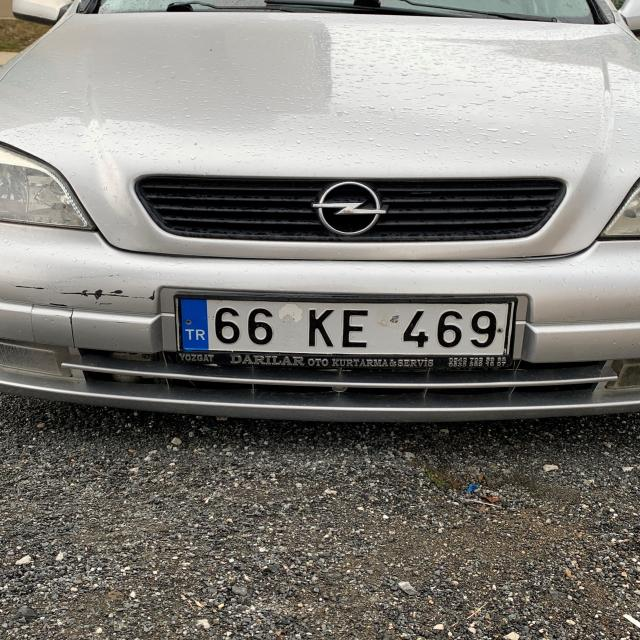license_plate: (177, 297, 511, 356)
